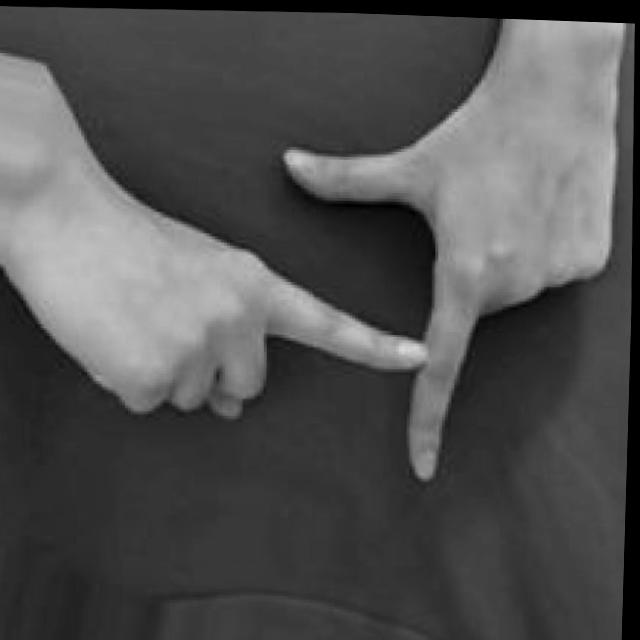F: (99, 115, 623, 495)
